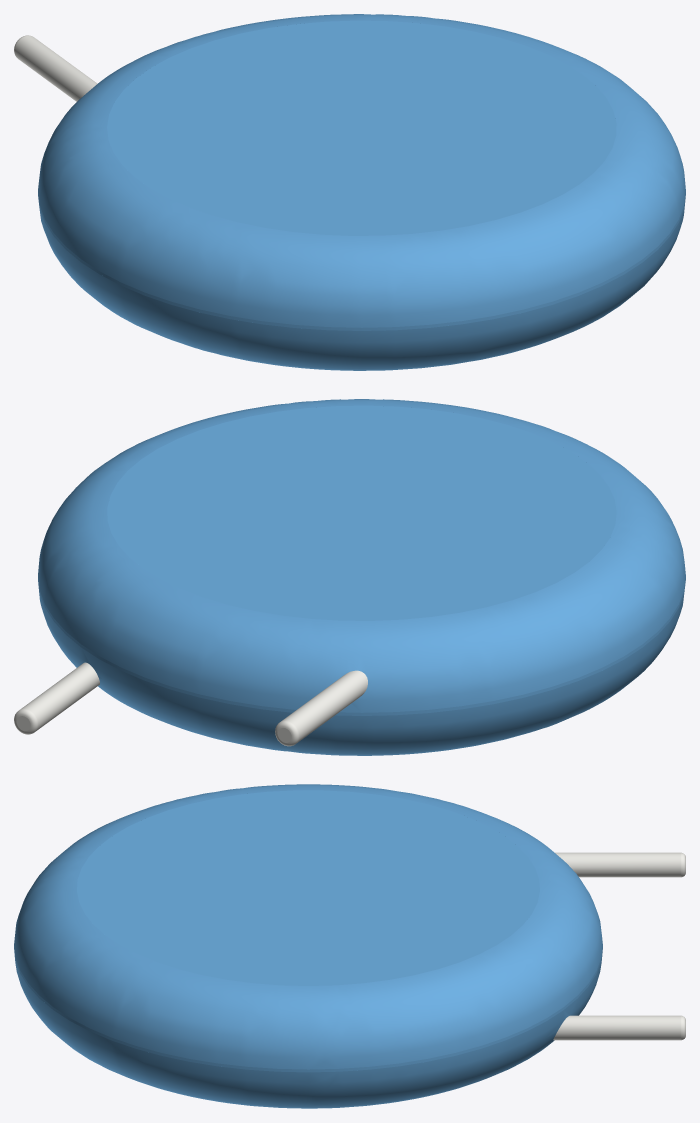
File: RV_Disc_D21.5mm_W4.7mm_P10mm.glb
The picture shows the model from 3 angles, top to bottom: view 1: azimuth 30°, elevation 25°; view 2: azimuth 150°, elevation 25°; view 3: azimuth 270°, elevation 25°; orthographic projection. The views are drawn at different scales.
Parts seen in each view (by area): view 1: Shape_IndexedFaceSet.003, Shape_IndexedFaceSet.001, Shape_IndexedFaceSet.002, Shape_IndexedFaceSet, Shape_IndexedFaceSet.004; view 2: Shape_IndexedFaceSet.003, Shape_IndexedFaceSet.001, Shape_IndexedFaceSet.002, Shape_IndexedFaceSet.004, Shape_IndexedFaceSet, Shape_IndexedFaceSet.006; view 3: Shape_IndexedFaceSet.003, Shape_IndexedFaceSet.001, Shape_IndexedFaceSet.002, Shape_IndexedFaceSet.006, Shape_IndexedFaceSet.004, Shape_IndexedFaceSet.
Boxes of the visible parts, <box> form: Shape_IndexedFaceSet.003: <box>107,20,616,235</box>; Shape_IndexedFaceSet.001: <box>38,14,685,327</box>; Shape_IndexedFaceSet.002: <box>38,198,685,370</box>; Shape_IndexedFaceSet: <box>38,192,685,330</box>; Shape_IndexedFaceSet.004: <box>14,35,97,101</box>; Shape_IndexedFaceSet.003: <box>107,405,616,620</box>; Shape_IndexedFaceSet.001: <box>38,399,685,712</box>; Shape_IndexedFaceSet.002: <box>38,581,684,755</box>; Shape_IndexedFaceSet.004: <box>281,670,367,743</box>; Shape_IndexedFaceSet: <box>38,577,685,715</box>; Shape_IndexedFaceSet.006: <box>20,662,99,730</box>; Shape_IndexedFaceSet.003: <box>77,790,539,985</box>; Shape_IndexedFaceSet.001: <box>14,784,602,1069</box>; Shape_IndexedFaceSet.002: <box>14,952,602,1108</box>; Shape_IndexedFaceSet.006: <box>553,1015,680,1040</box>; Shape_IndexedFaceSet.004: <box>555,852,680,877</box>; Shape_IndexedFaceSet: <box>14,946,602,1072</box>.
Bounding box in the file's own units: 8.47 × 1.85 × 9.66.
